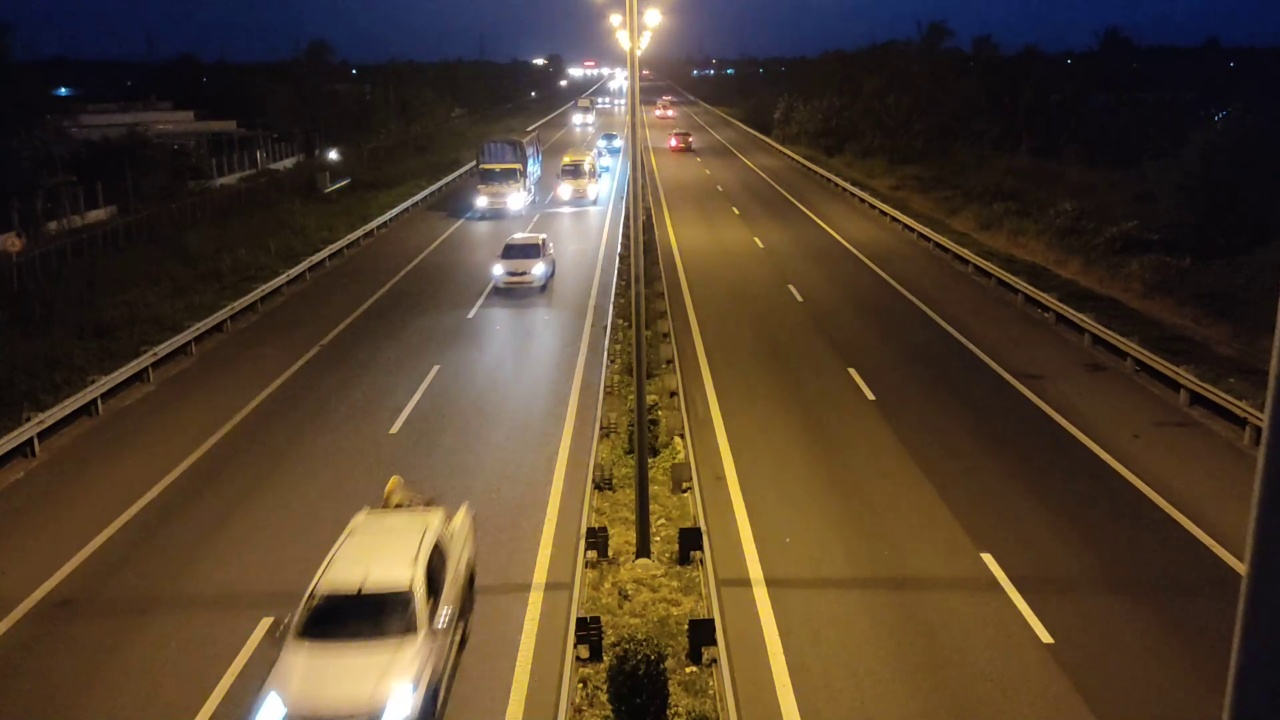car: (491, 233, 557, 293), (667, 130, 695, 153)
truck: (475, 131, 543, 217)
